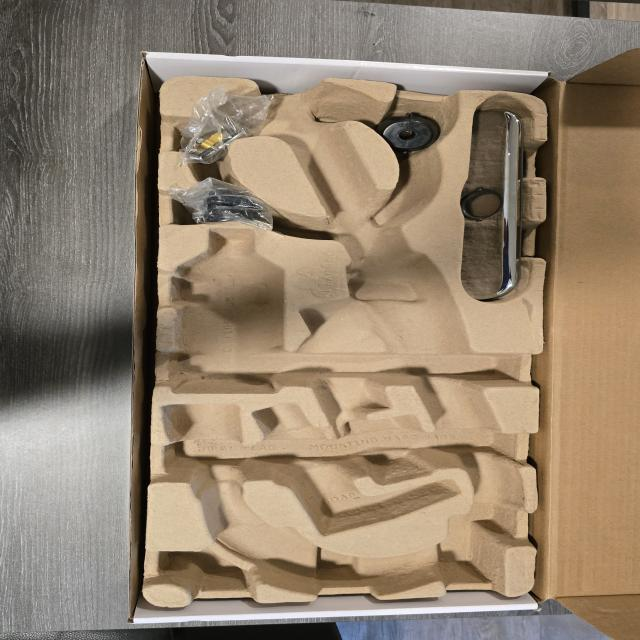1m: (165, 80, 520, 596)
2m: (252, 405, 457, 537)
3m: (170, 226, 288, 394)
4: (461, 109, 522, 301)
5: (378, 115, 438, 152)
6: (174, 87, 275, 164)
7: (169, 174, 277, 230)
